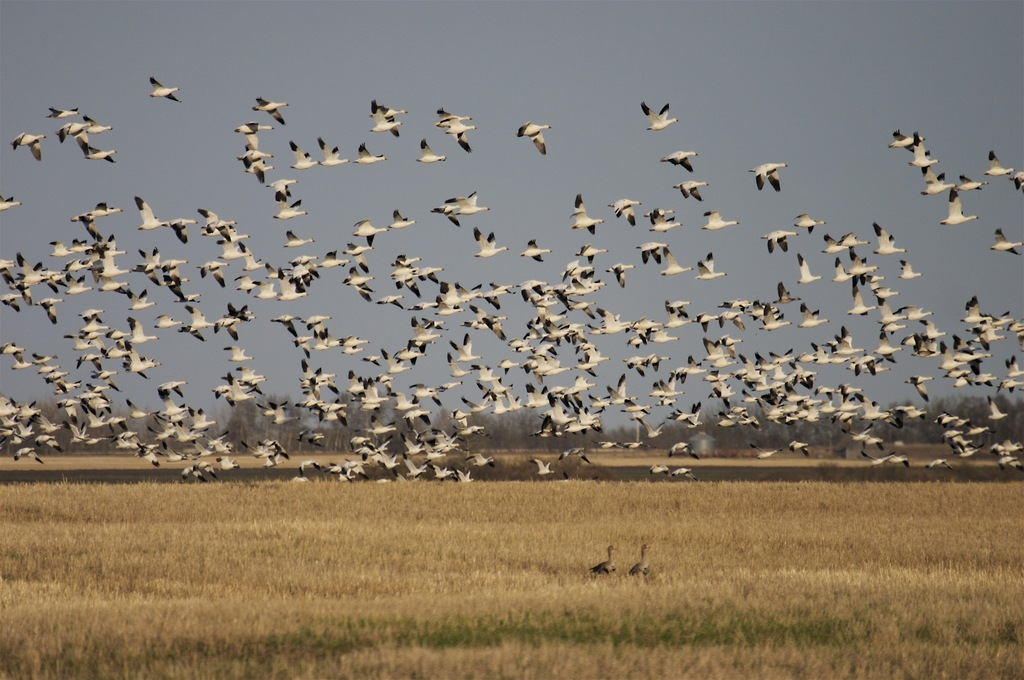Bird: (589, 543, 620, 576), (628, 543, 652, 576)
